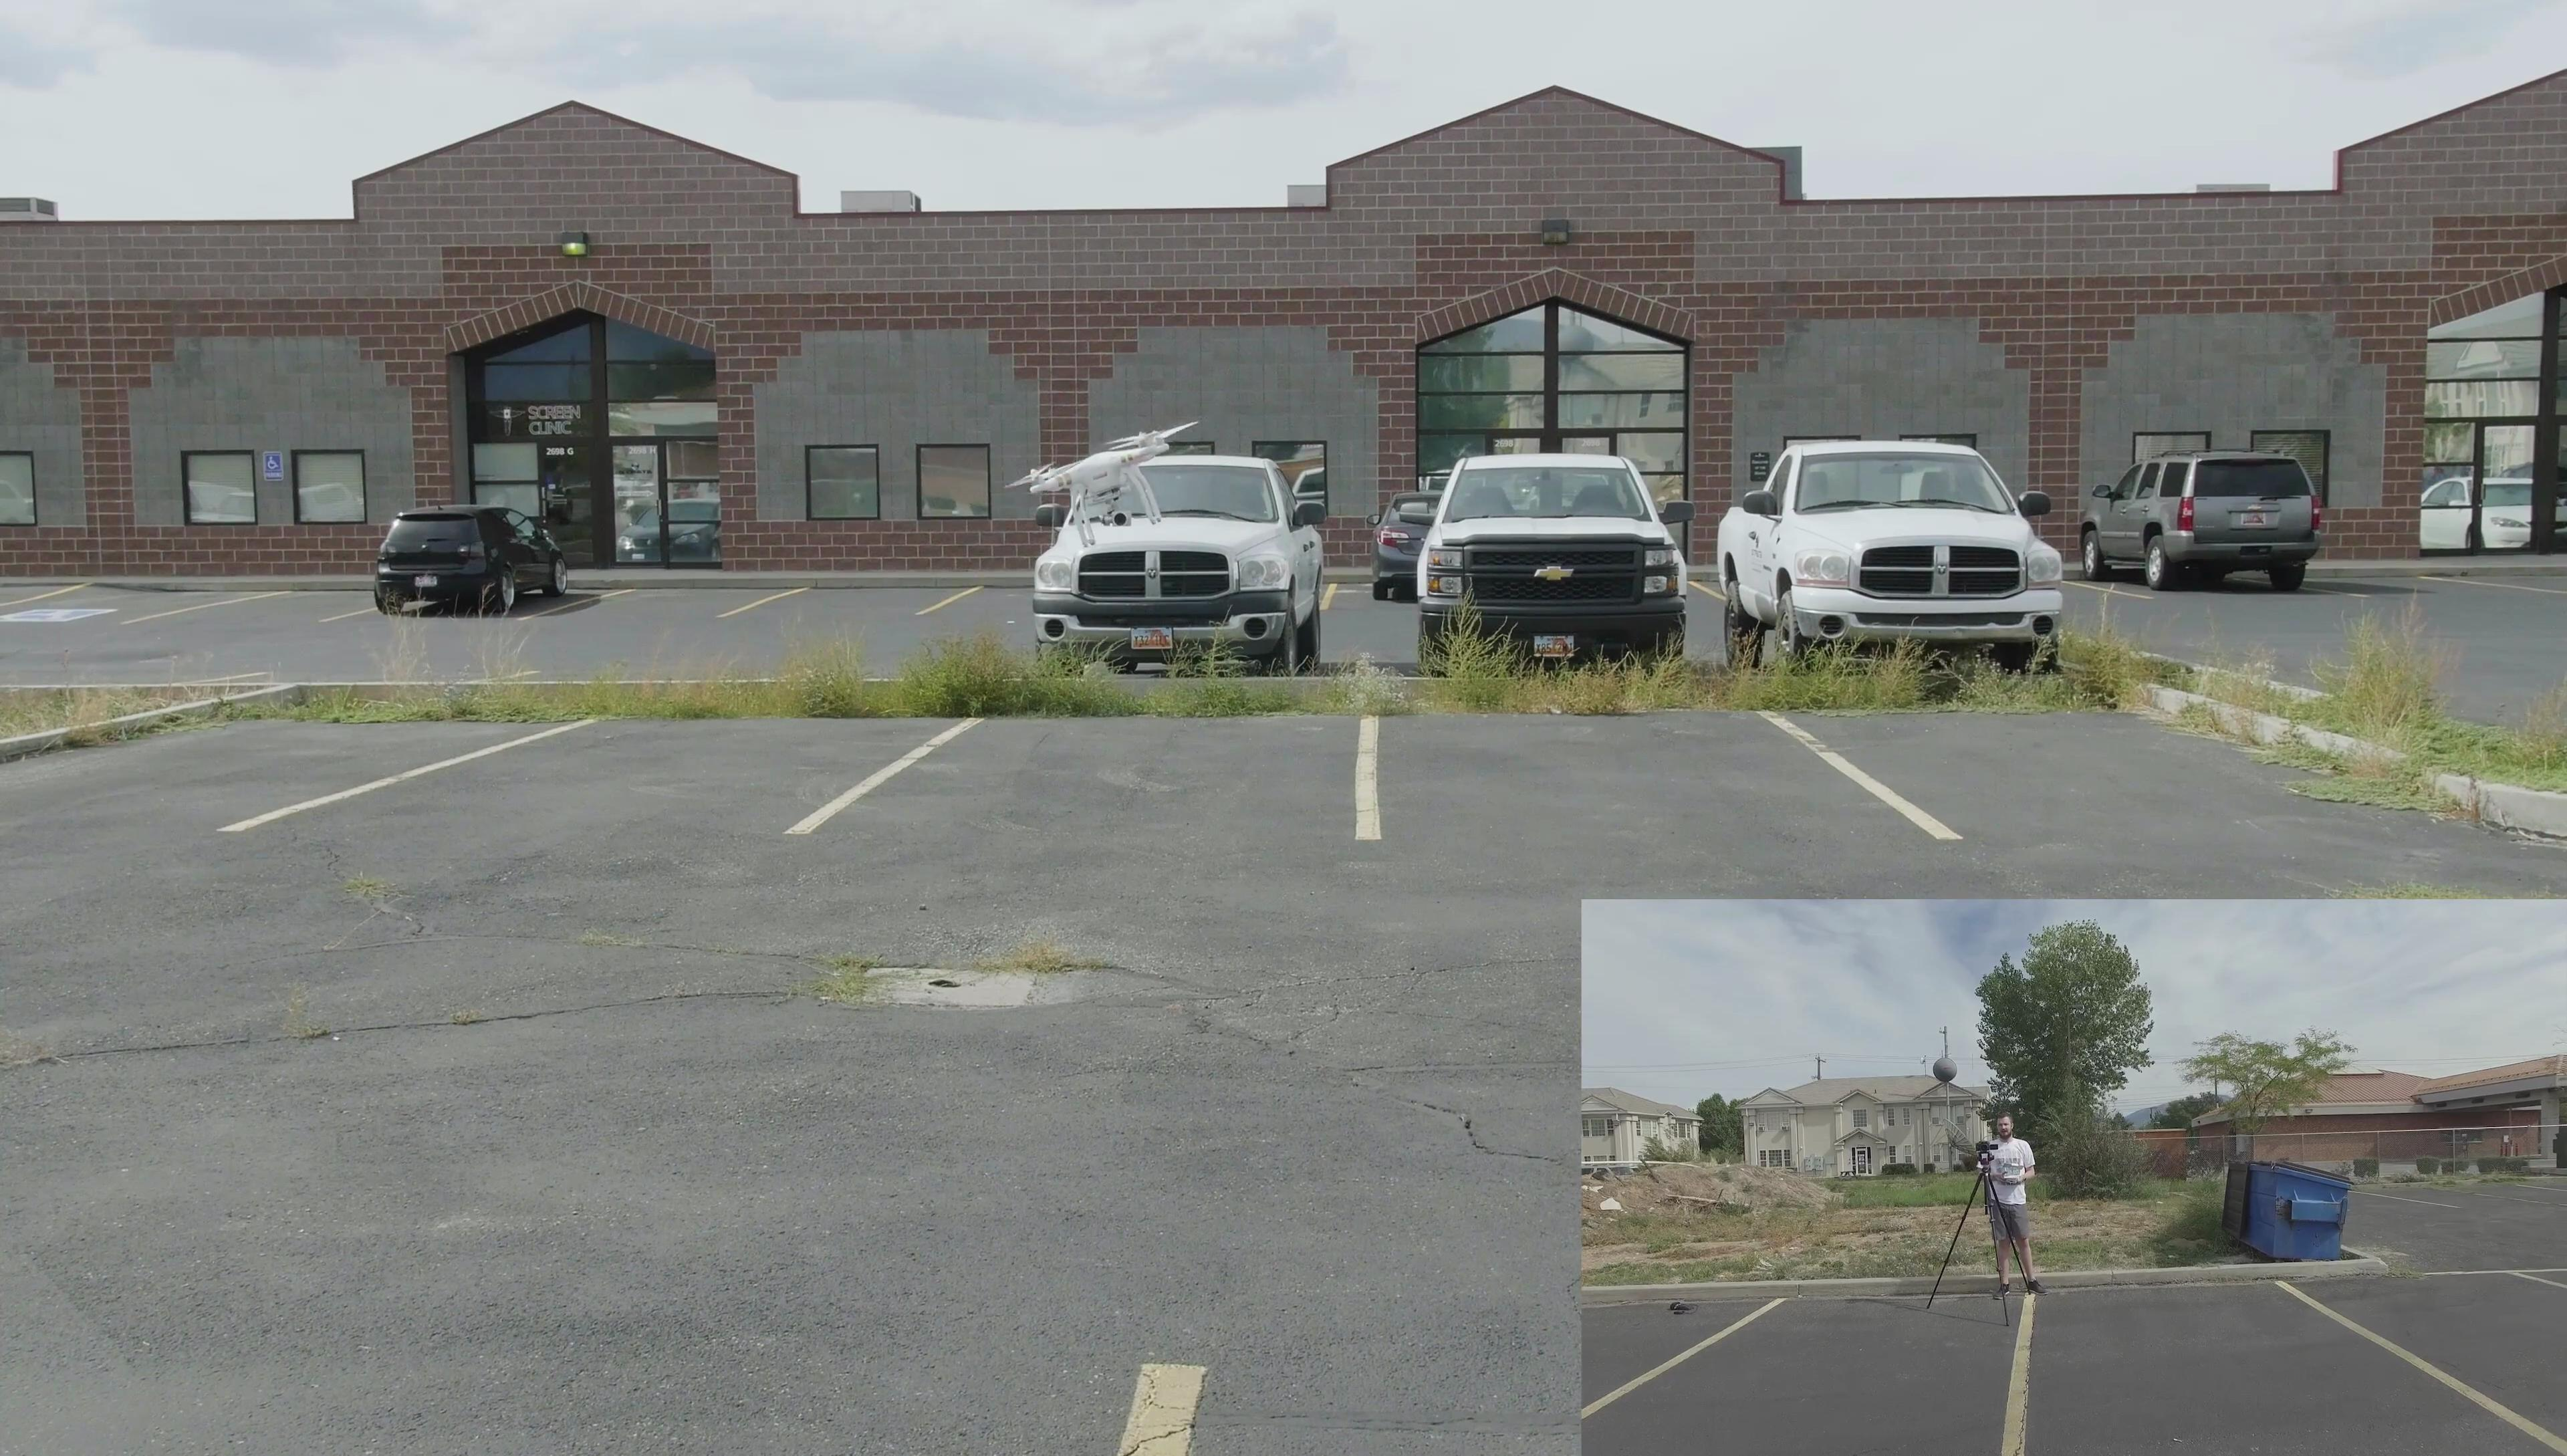drone: (1017, 409, 1208, 543)
